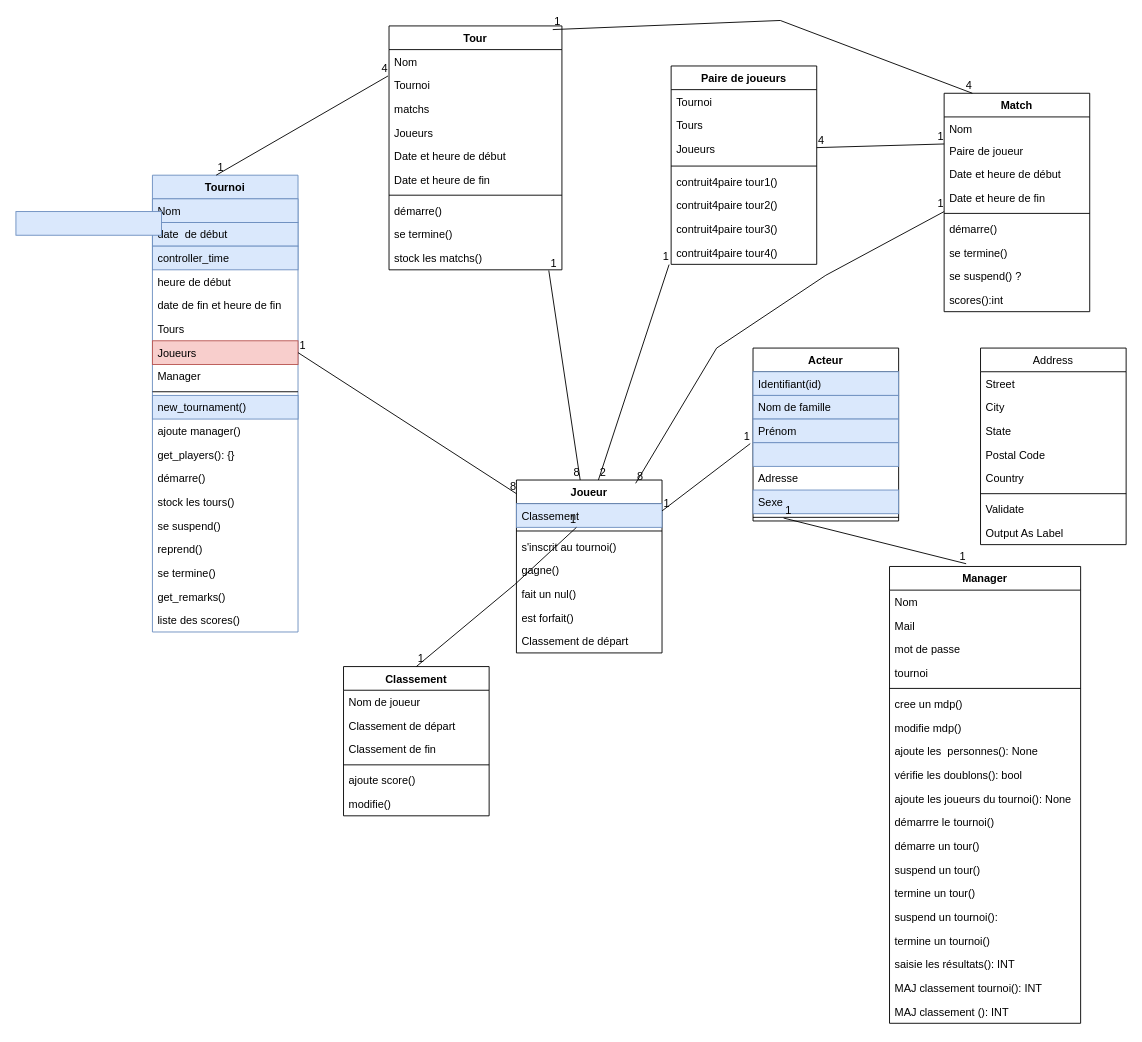
Some shapes in this 1142 by 1042 pixel diagram are drawn without their labels. The centre of each missing label's shape, as x and y in pixels:
"Date de naissance" goes at pixel 825 454.
"Lieu" goes at pixel 88 223.
